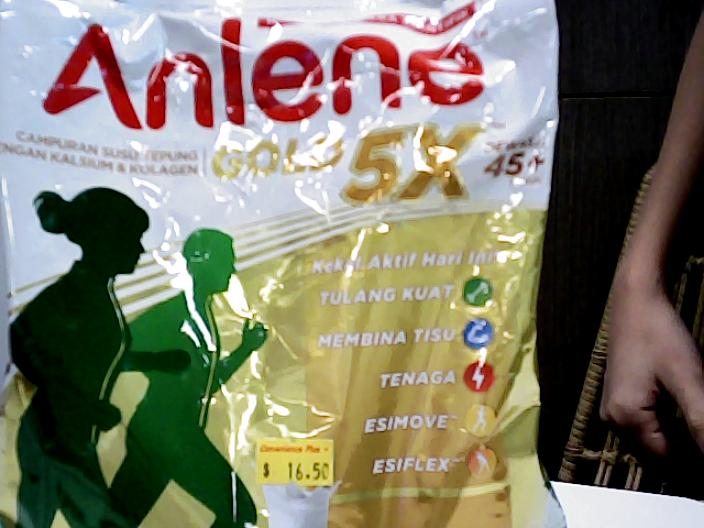Adult_Milk_1000-1999g_Halal_NonHealthy: (5, 10, 549, 519)
